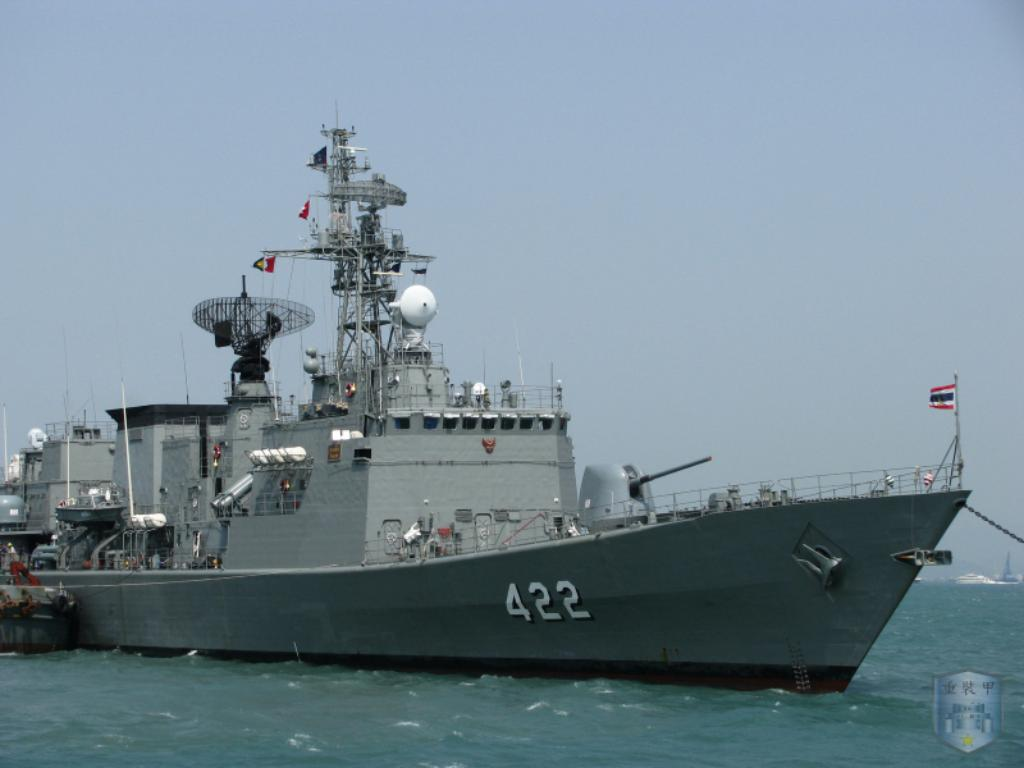PassengerShip: (954, 568, 986, 586)
